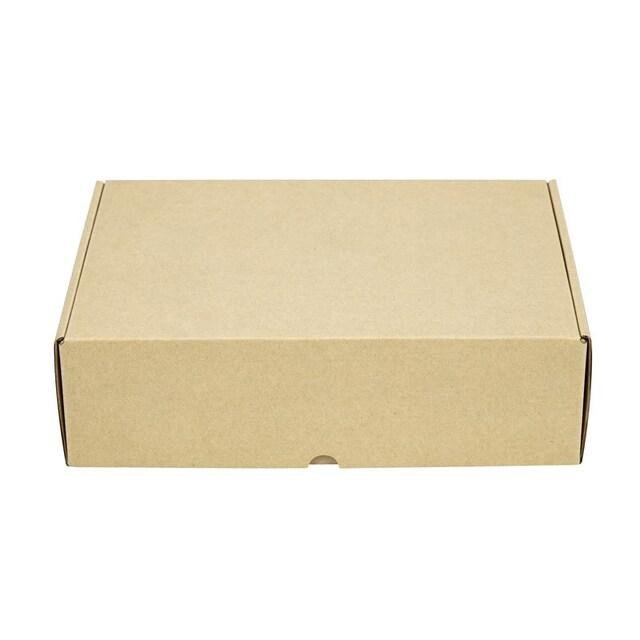box: (44, 137, 613, 512)
